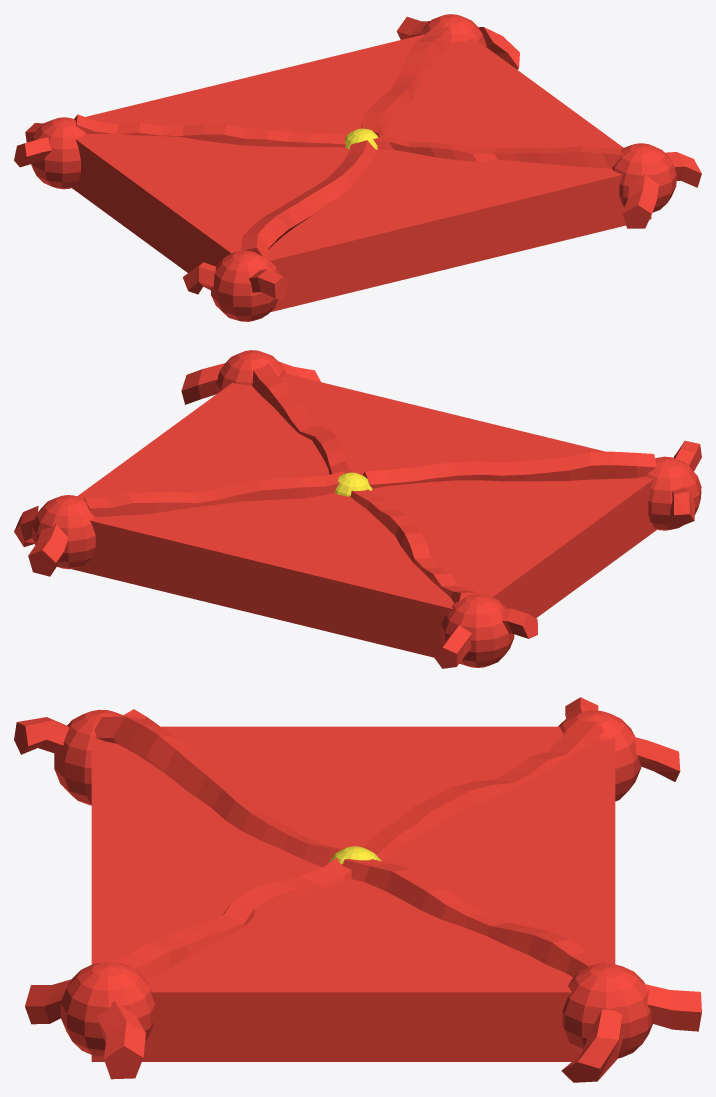
The model's file is model-triangulated.obj.
3 views of the same model, one above another, from view 1: azimuth 30°, elevation 25°; view 2: azimuth 150°, elevation 25°; view 3: azimuth 270°, elevation 25° (orthographic). The views are drawn at different scales.
Parts seen in each view (by area): view 1: group1128309215, group470333196, group624633683, group450534900, group1555232724, group1579104096, group1533634475, group920512620, group1994500814, group448511991, group726843894, group724623591 (+3 smaller); view 2: group1128309215, group470333196, group1579104096, group1533634475, group624633683, group450534900, group448511991, group1555232724, group920512620, group6384952, group1958079459, group1830271789 (+5 smaller); view 3: group1128309215, group470333196, group1579104096, group450534900, group624633683, group448511991, group920512620, group1555232724, group1958079459, group724623591, group1533634475, group6384952 (+3 smaller).
Part boxes in pixels (x1,y1,x2,y2): group1128309215: (72,34,651,312); group470333196: (241,140,376,258); group624633683: (74,114,346,147); group450534900: (373,135,623,168); group1555232724: (210,250,279,321); group1579104096: (361,27,450,137); group1533634475: (31,117,86,189); group920512620: (612,143,676,212); group1994500814: (622,173,658,228); group448511991: (419,14,486,46); group726843894: (249,269,288,299); group724623591: (478,27,519,69); group1128309215: (71,373,656,664); group470333196: (363,451,656,488); group1579104096: (84,471,344,516); group1533634475: (441,594,514,667); group624633683: (350,489,477,602); group450534900: (252,363,353,474); group448511991: (32,495,95,569); group1555232724: (645,456,701,530); group920512620: (216,350,285,393); group6384952: (28,523,68,576); group1958079459: (181,363,225,404); group1830271789: (434,625,471,668); group1128309215: (91,726,615,1061); group470333196: (94,716,342,867); group1579104096: (342,859,604,977); group450534900: (111,857,351,980); group624633683: (362,720,604,859); group448511991: (562,963,652,1058); group920512620: (60,961,155,1057); group1555232724: (54,709,126,805); group1958079459: (95,1001,145,1079); group724623591: (561,1009,622,1082); group1533634475: (558,710,641,801); group6384952: (644,984,701,1031).
Bounding box in the file's own units: 1.14 × 0.1618 × 0.9855.
